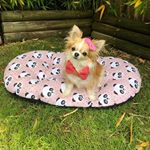puppy: (57, 22, 109, 103)
